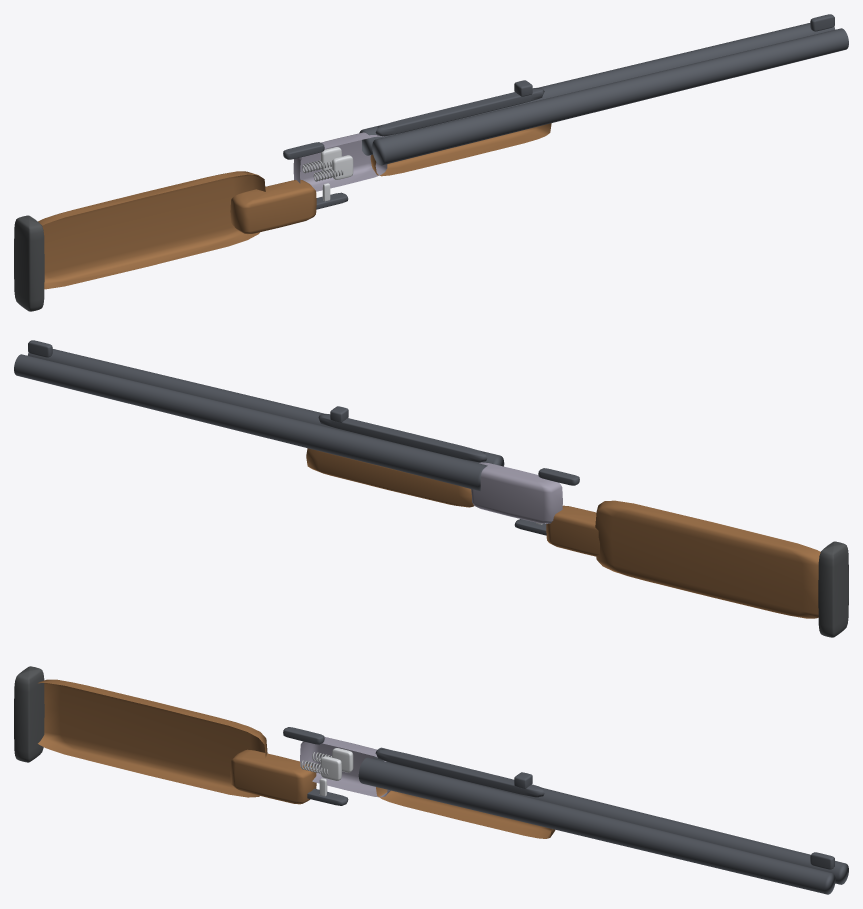
Rendered from elephant-700ne-cut.glb.
The picture shows the model from 3 angles, top to bottom: view 1: azimuth 30°, elevation 25°; view 2: azimuth 150°, elevation 25°; view 3: azimuth 330°, elevation 25°; orthographic projection.
Visible parts, largest first — view 1: buttstock_main, barrel_R_660mm, barrel_L_660mm, wrist_grip, buttpad_recoil, forend_walnut, sidelock_action, quarter_rib; view 2: buttstock_main, barrel_L_660mm, barrel_R_660mm, sidelock_action, forend_walnut, buttpad_recoil, quarter_rib, wrist_grip; view 3: buttstock_main, barrel_R_660mm, barrel_L_660mm, wrist_grip, buttpad_recoil, forend_walnut, quarter_rib, sidelock_action, top_lever, hammer_R.
Part boxes in pixels (x1,y1,x2,y2): buttstock_main: (38, 171, 265, 289); barrel_R_660mm: (372, 28, 848, 165); barrel_L_660mm: (359, 23, 834, 155); wrist_grip: (230, 180, 316, 234); buttpad_recoil: (14, 215, 44, 311); forend_walnut: (370, 123, 551, 176); sidelock_action: (293, 132, 387, 191); quarter_rib: (375, 88, 544, 136); buttstock_main: (595, 500, 820, 618); barrel_L_660mm: (14, 354, 487, 491); barrel_R_660mm: (28, 349, 504, 466); sidelock_action: (471, 462, 562, 523); forend_walnut: (306, 448, 473, 507); buttpad_recoil: (818, 541, 848, 637); quarter_rib: (318, 414, 487, 462); wrist_grip: (546, 505, 599, 556); buttstock_main: (38, 679, 267, 797); barrel_R_660mm: (358, 757, 835, 894); barrel_L_660mm: (373, 747, 848, 884); wrist_grip: (230, 749, 316, 804); buttpad_recoil: (14, 666, 44, 762); forend_walnut: (376, 787, 555, 838); quarter_rib: (375, 749, 544, 797); sidelock_action: (300, 737, 390, 797); top_lever: (283, 727, 324, 744); hammer_R: (320, 756, 341, 780).
Bounding box in the file's own units: 1.16 × 0.14 × 0.066.
